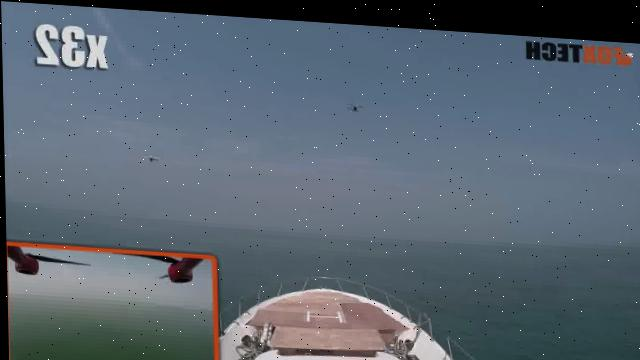drone: (338, 92, 373, 113), (134, 144, 163, 163)
